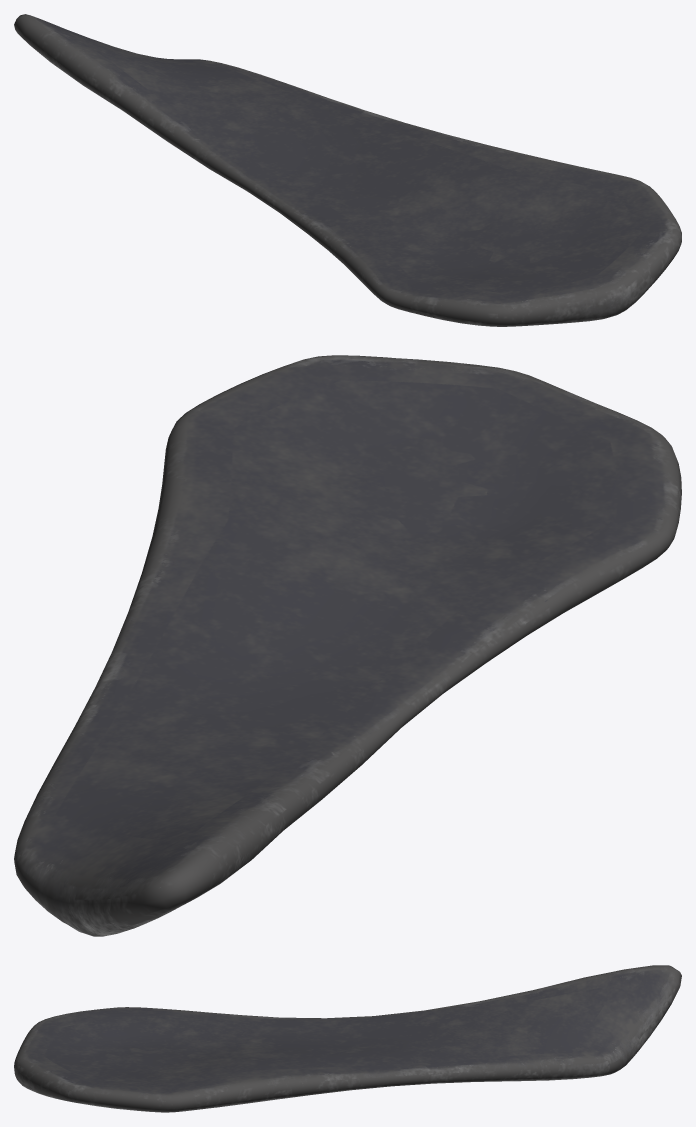
Rendered from bot_part_06.gltf.
3 renders of one model, top to bottom at view 1: azimuth 30°, elevation 25°; view 2: azimuth 150°, elevation 25°; view 3: azimuth 270°, elevation 25°, orthographic. The views are drawn at different scales.
Visible parts, largest first — view 1: bot_part_06; view 2: bot_part_06; view 3: bot_part_06.
Part boxes in pixels (bbox=[...]): bot_part_06: bbox=[14, 14, 681, 326]; bot_part_06: bbox=[14, 355, 681, 936]; bot_part_06: bbox=[14, 965, 681, 1112].
Bounding box in the file's own units: 1.13 × 0.2912 × 2.52.
1 material, 1 textured.
